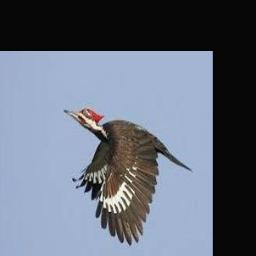Woodpecker: (64, 107, 192, 245)
